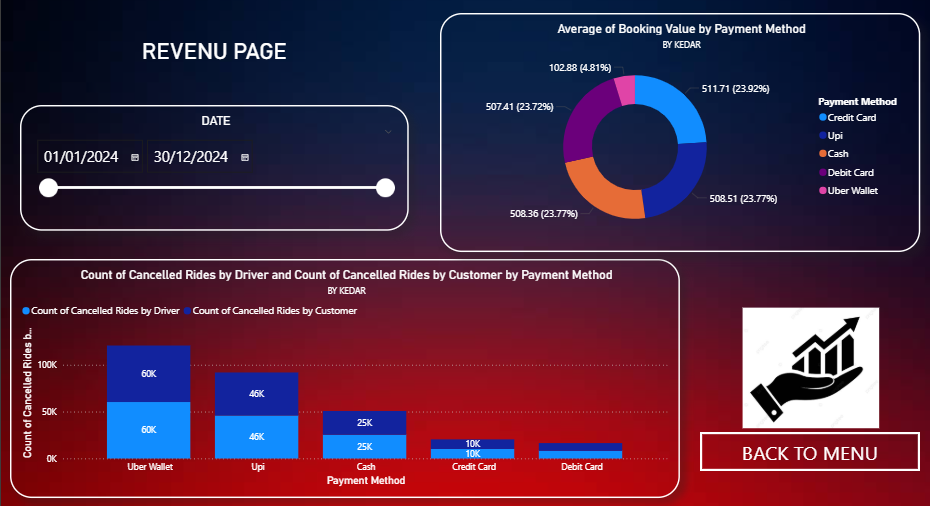

The dashboard page shown, as its layout file describes it:
{"tool":"powerbi","page":{"name":"Page 5","canvas":[1280,720],"ordinal":4},"visuals":[{"type":"columnChart","fields":{"Category":["ncr_ride_bookings.Payment Method"],"Y":["CountNonNull(ncr_ride_bookings.Cancelled Rides by Driver)","CountNonNull(ncr_ride_bookings.Cancelled Rides by Customer)"]},"box":[12.4,370.2,922.2,328.9],"z":0},{"type":"donutChart","fields":{"Category":["ncr_ride_bookings.Payment Method"],"Y":["Avg(ncr_ride_bookings.Booking Value)"]},"box":[604.2,31.7,660.6,328.9],"z":1000},{"type":"slicer","title":"DATE","fields":{"Values":["ncr_ride_bookings.Date"]},"box":[26.2,158.3,535.4,173.4],"z":2000},{"type":"actionButton","box":[962.1,608.3,302.8,53.7],"z":3000},{"type":"textbox","title":"REVENU PAGE","box":[26.2,66.1,535.4,112.9],"z":4000},{"type":"image","box":[949.7,432.2,330.3,176.2],"z":5000}]}

Visuals, with their boxes in screenshot pixels (x1, y1, x2, y2):
columnChart - ncr_ride_bookings.Payment Method x CountNonNull(ncr_ride_bookings.Cancelled Rides by Driver): (x1=16, y1=259, x2=679, y2=495)
donutChart - ncr_ride_bookings.Payment Method x Avg(ncr_ride_bookings.Booking Value): (x1=442, y1=16, x2=916, y2=252)
"DATE" slicer: (x1=26, y1=107, x2=411, y2=231)
actionButton: (x1=699, y1=430, x2=916, y2=469)
"REVENU PAGE" textbox: (x1=26, y1=40, x2=411, y2=121)
image: (x1=690, y1=303, x2=927, y2=430)
